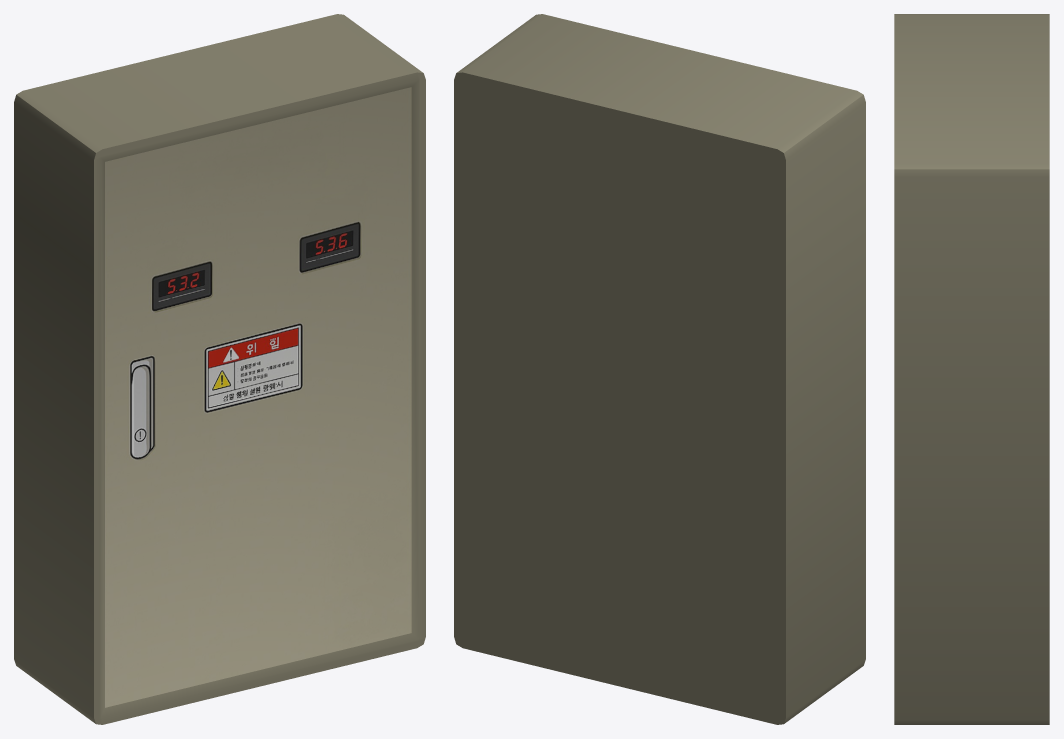
The picture shows the model from 3 angles, left to right: view 1: azimuth 30°, elevation 25°; view 2: azimuth 150°, elevation 25°; view 3: azimuth 270°, elevation 25°; orthographic projection. The views are drawn at different scales.
Visible parts, largest first — view 1: PLC본체(전원환경감시)026; view 2: PLC본체(전원환경감시)026; view 3: PLC본체(전원환경감시)026.
Boxes of the visible parts, <box> form: PLC본체(전원환경감시)026: <box>14,14,425,724</box>; PLC본체(전원환경감시)026: <box>454,14,865,724</box>; PLC본체(전원환경감시)026: <box>894,14,1049,724</box>.
Size of the model in its own units: 0.6 by 0.9944 by 0.25.
Materials: 2 (1 with a texture image).
